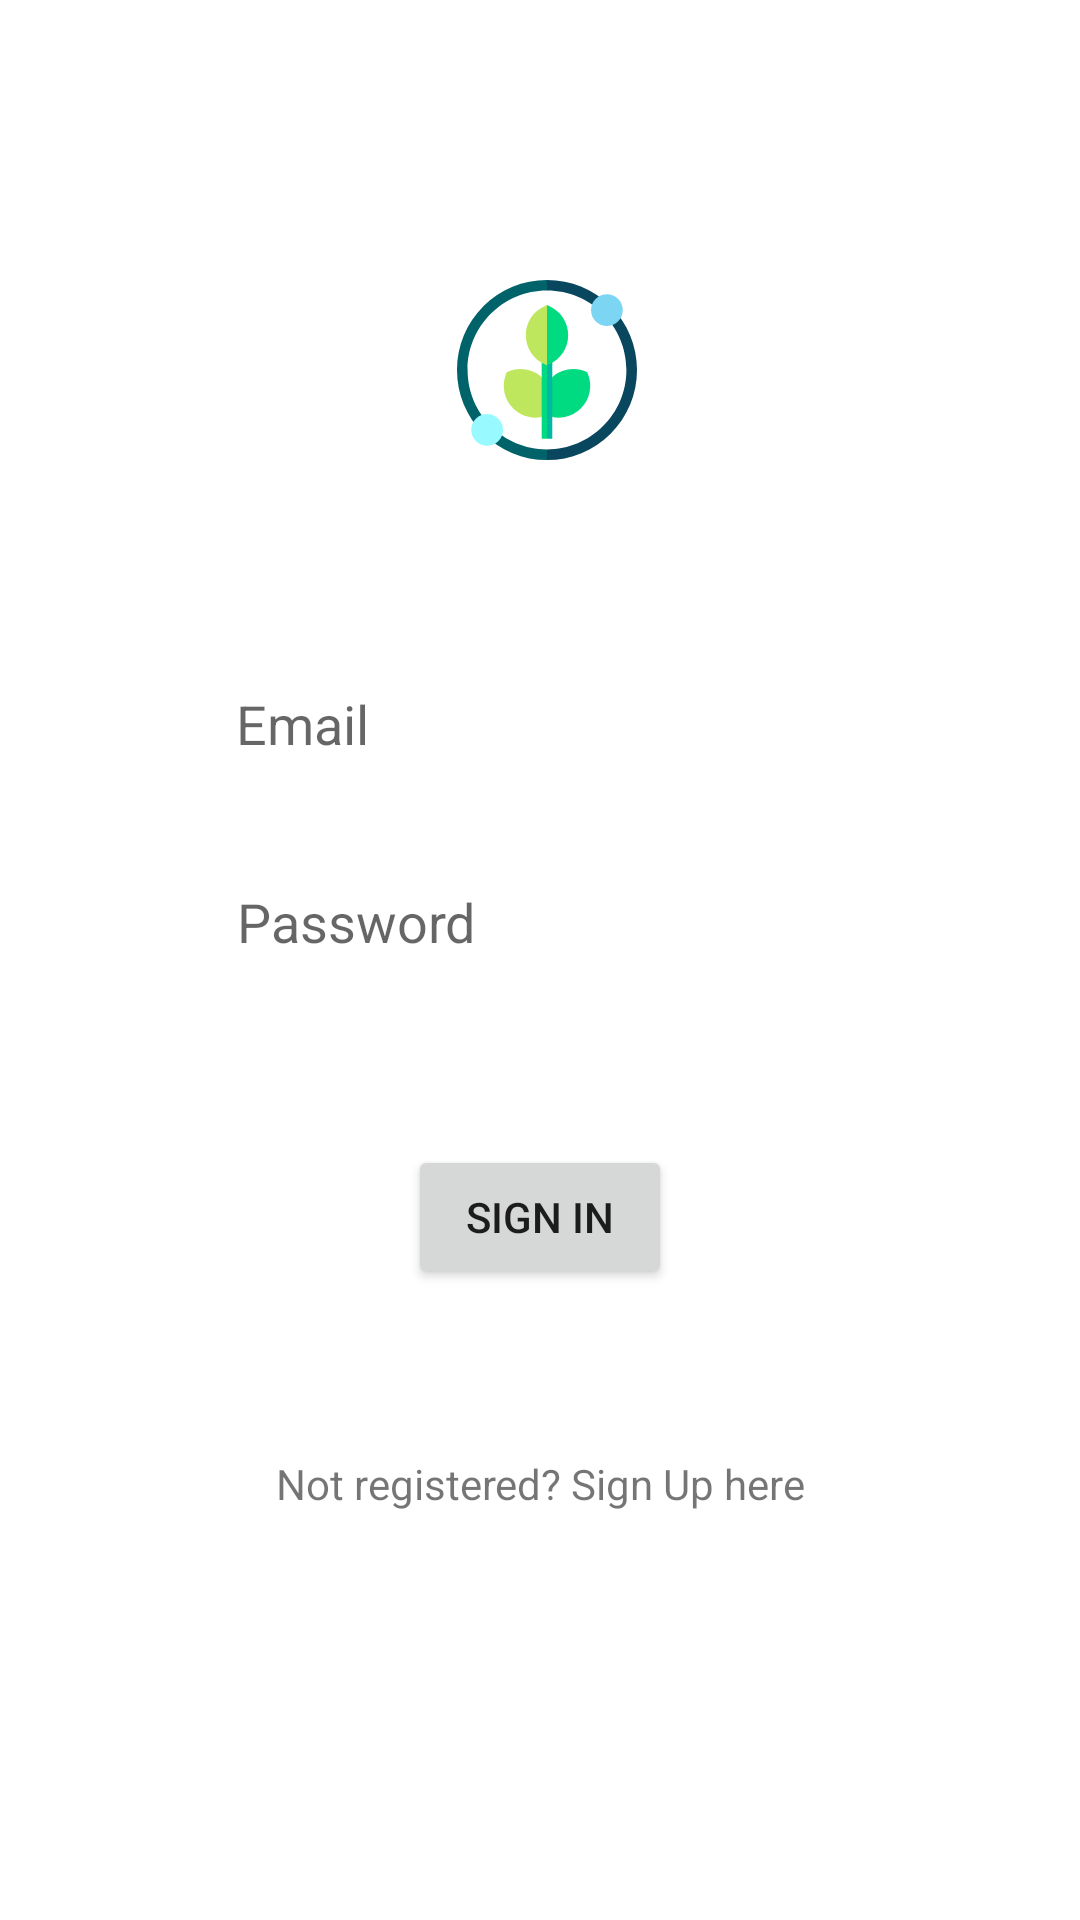

Icon click points for this 1080 x 1920 phone screenshot, format [x,y]:
agronomy: [547,370]
